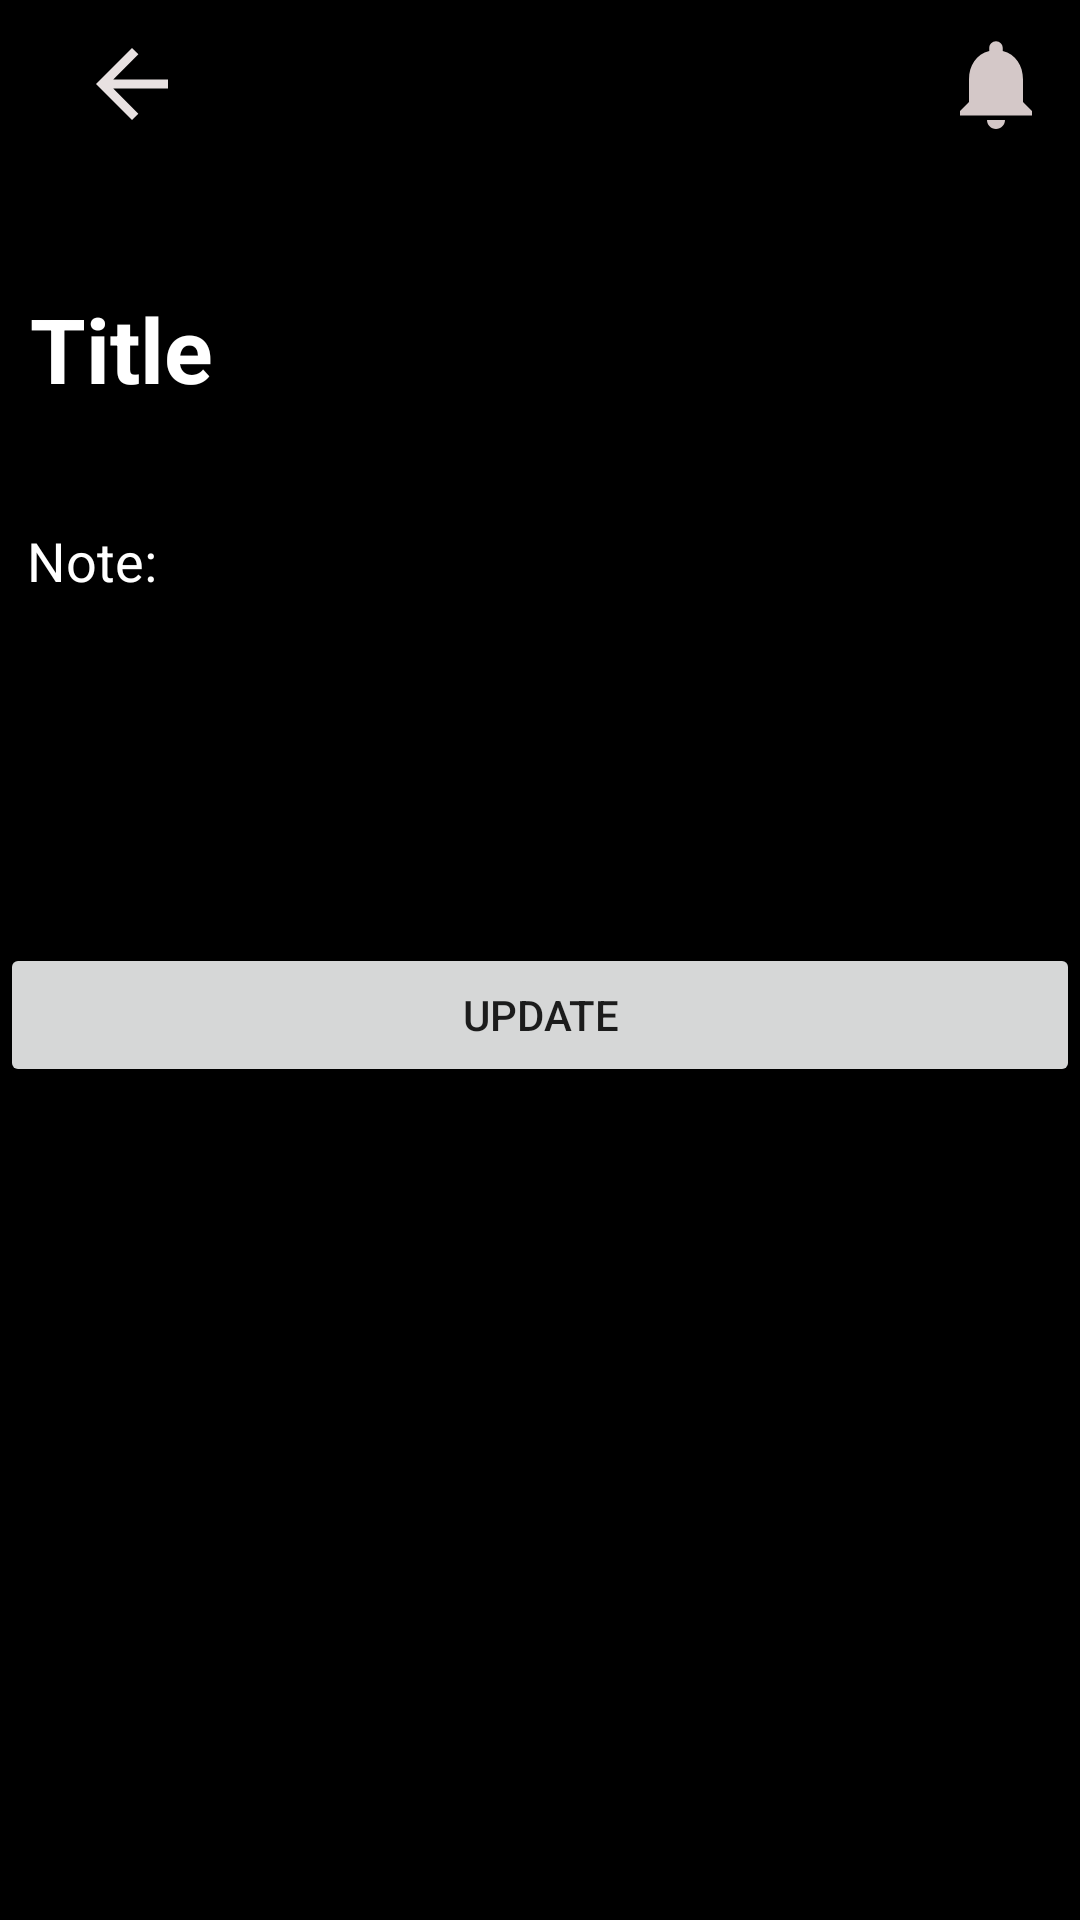

Locate icon controls on the screen. Image size 1080 x 1920, boxes as BBox(x1, y1, x2, y2).
arrow back: BBox(96, 48, 168, 120)
notifications: BBox(960, 41, 1032, 129)
